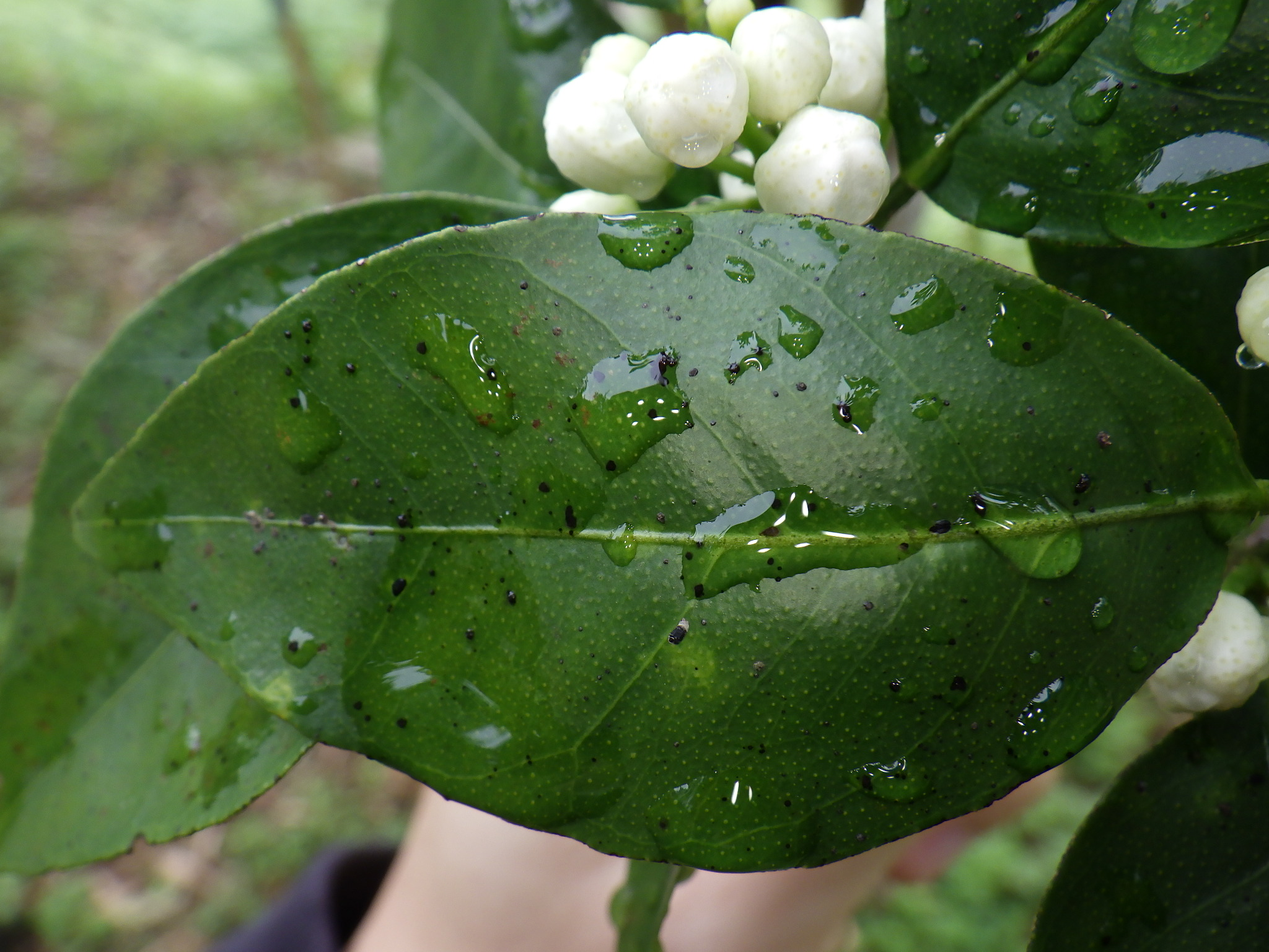Oily_Spot: (68, 211, 1268, 871)
